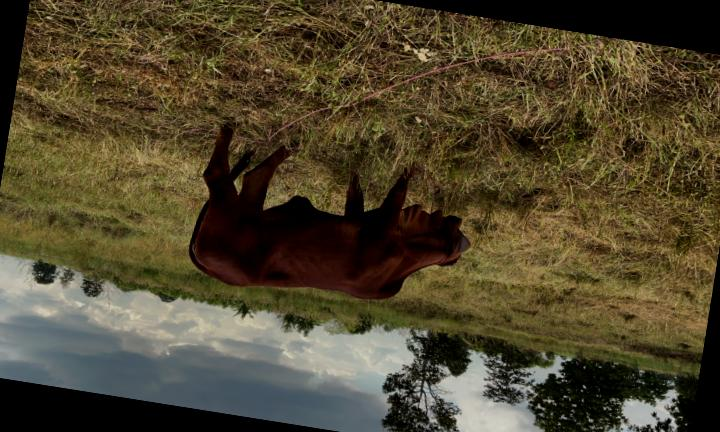Brahman: (189, 127, 469, 299)
